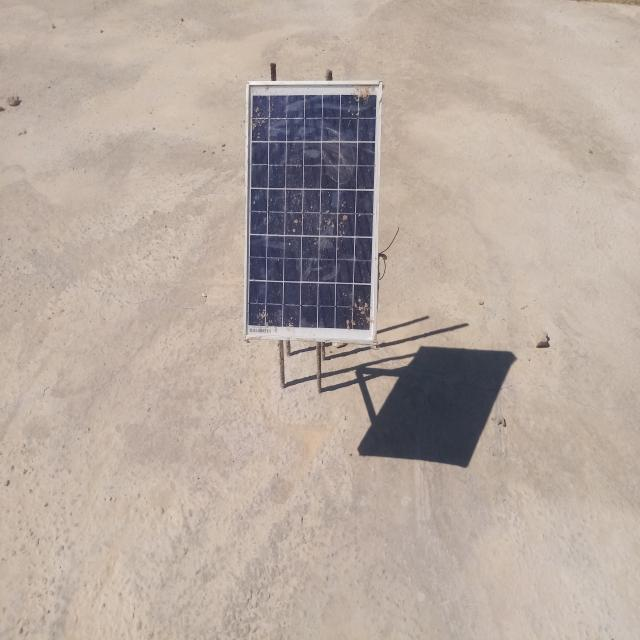faulty: (243, 82, 382, 344)
